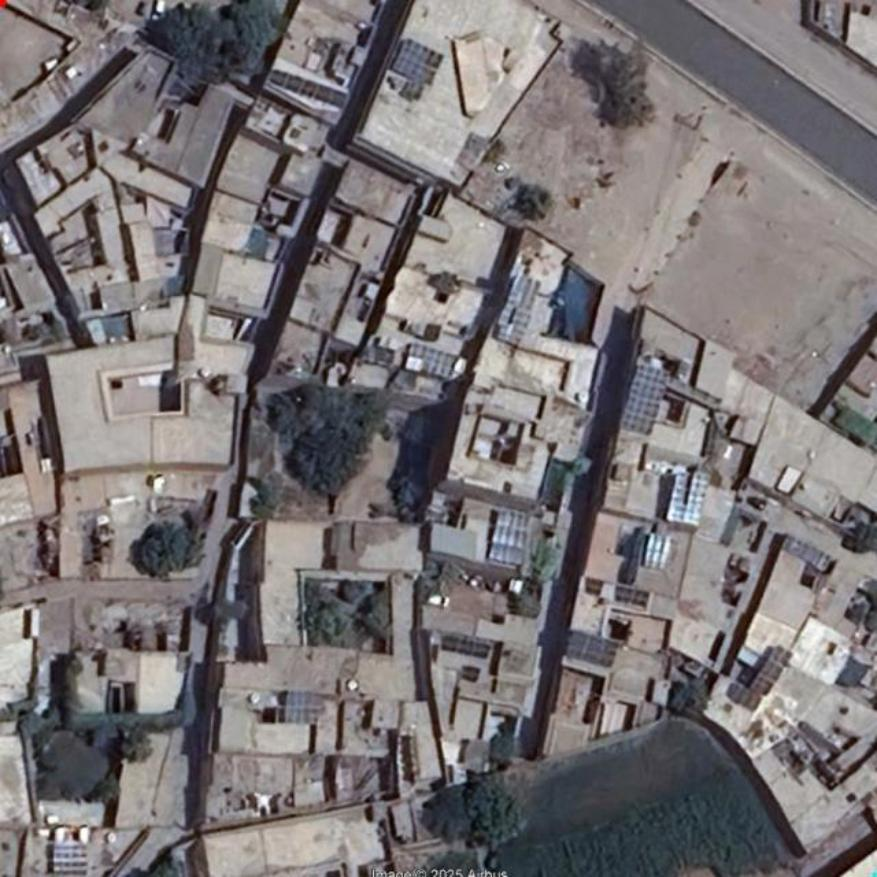Solarpanel: (618, 365, 667, 436), (493, 276, 540, 347), (267, 66, 345, 107), (390, 38, 445, 87), (667, 471, 709, 525), (405, 345, 467, 381), (566, 627, 616, 666), (440, 636, 493, 660), (282, 690, 311, 724)
